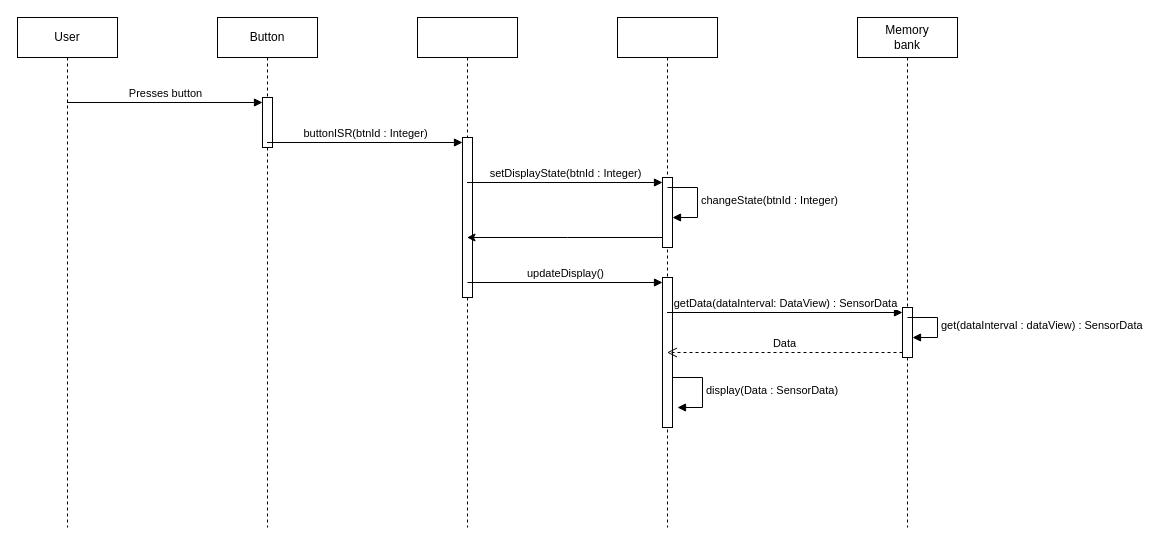
Image size: 1161x545. Some labels were removed from this diagram. Here are the shapes that lost their labels. From the top down, the box of each, then its label:
(416, 16, 518, 528): Weather_station
(616, 16, 718, 528): Display
